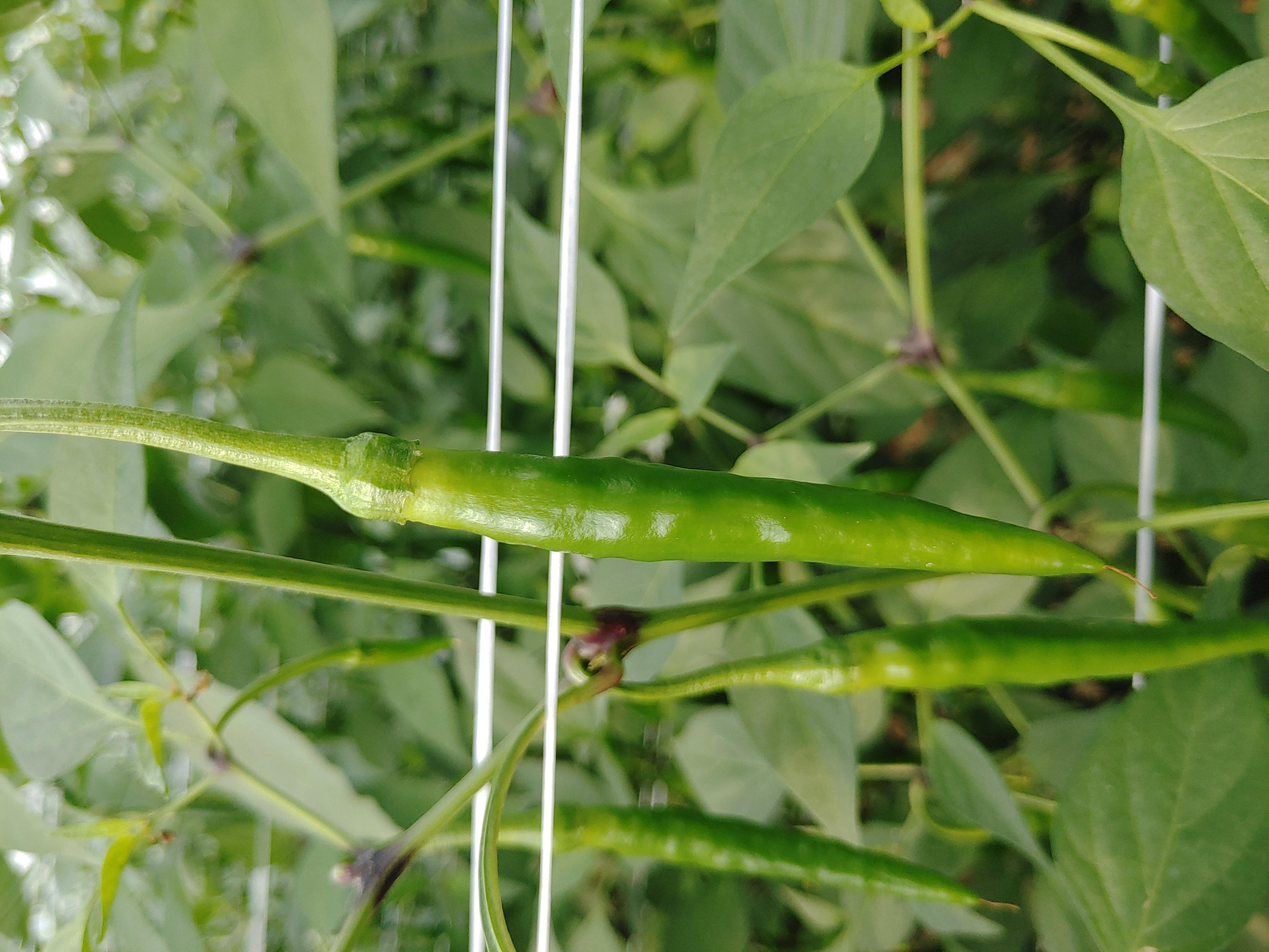Buah Cabai Sehat: (332, 429, 1105, 579)
